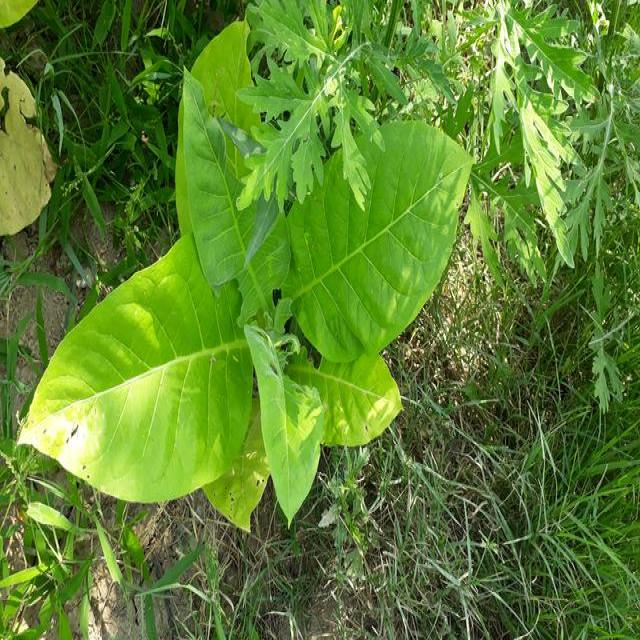crop: (30, 43, 480, 526), (0, 21, 60, 235)
